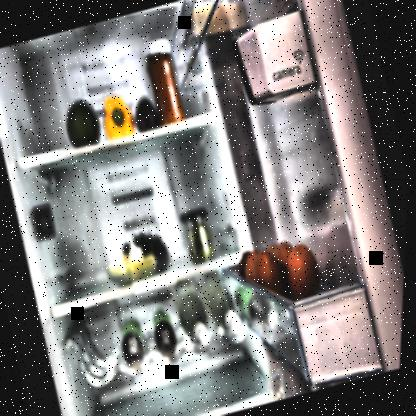eggs: (283, 240, 327, 297), (253, 248, 290, 296), (239, 253, 261, 283)
yellow_bell_pepper: (98, 91, 138, 139)
